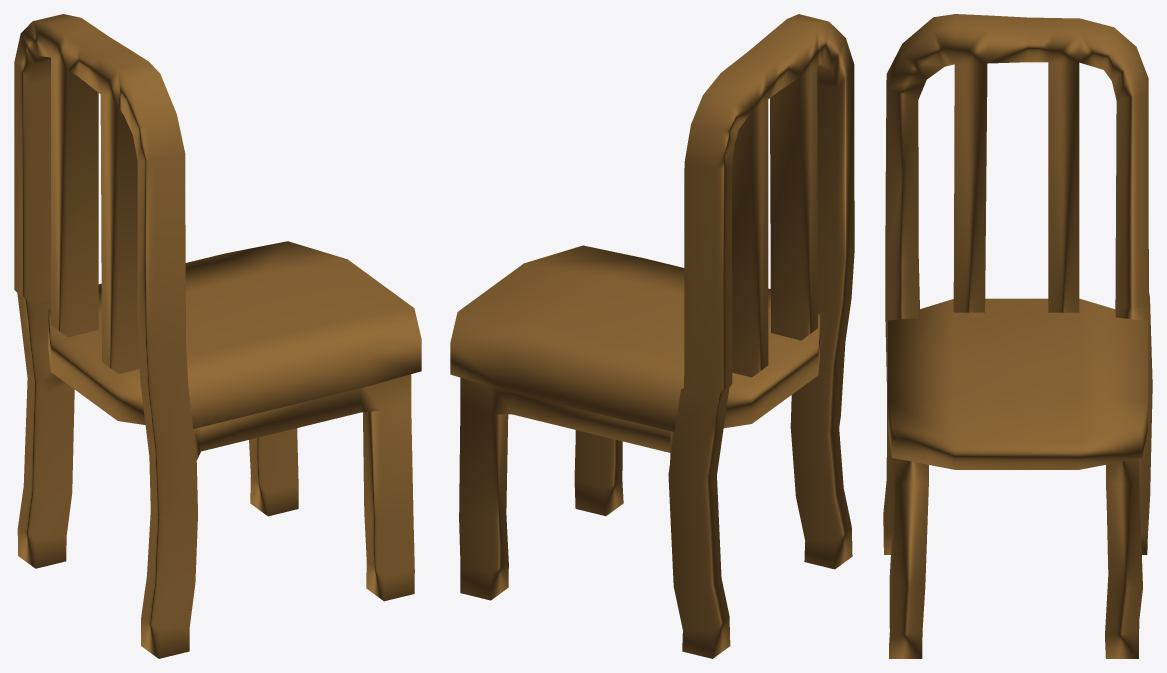
Rendered from chair_wooden.fbx.
3 views of the same model, side by side, from view 1: azimuth 30°, elevation 25°; view 2: azimuth 150°, elevation 25°; view 3: azimuth 270°, elevation 25° (orthographic). The views are drawn at different scales.
Parts seen in each view (by area): view 1: chair_wooden; view 2: chair_wooden; view 3: chair_wooden.
Part boxes in pixels (bbox=[...]): chair_wooden: bbox=[14, 14, 421, 658]; chair_wooden: bbox=[450, 14, 854, 658]; chair_wooden: bbox=[883, 14, 1152, 658].
Size of the model in its own units: 91.81 by 166 by 77.26.
